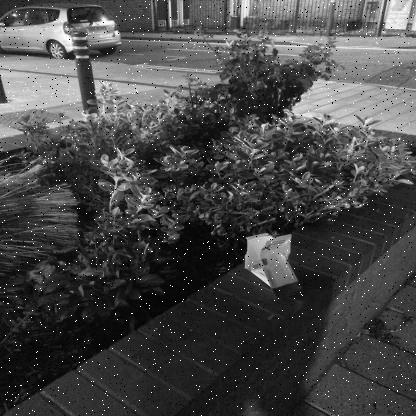cardboard: (246, 232, 304, 300)
